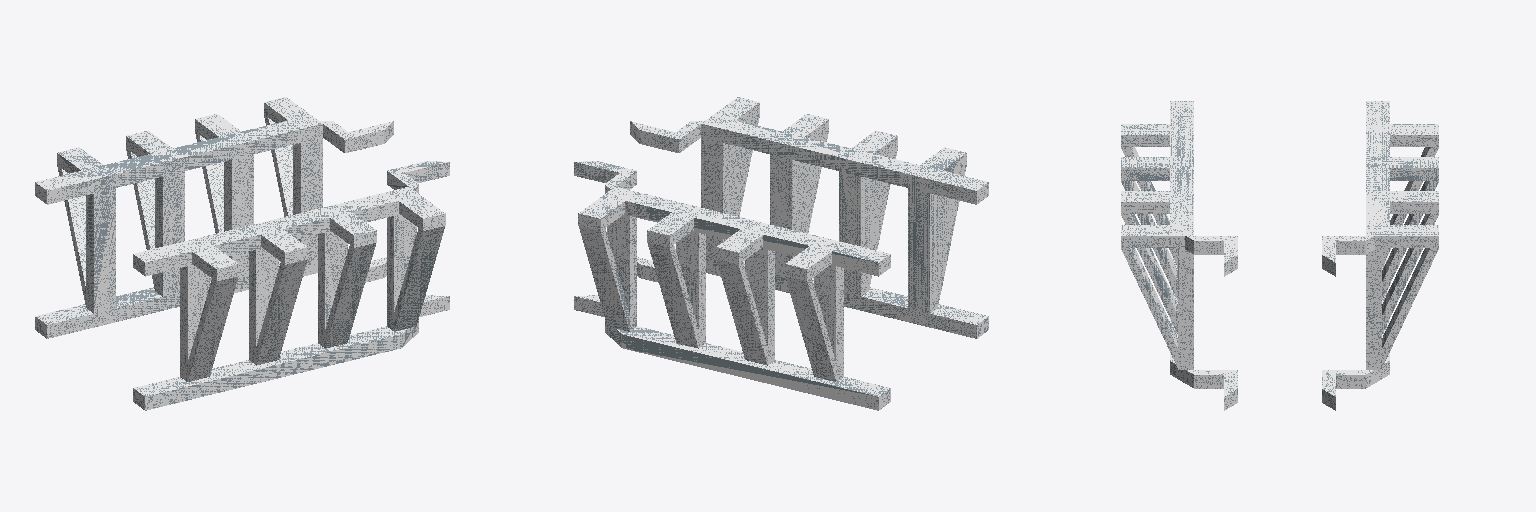
Rendered from arms2.obj.
The picture shows the model from 3 angles: view 1: azimuth 30°, elevation 25°; view 2: azimuth 150°, elevation 25°; view 3: azimuth 270°, elevation 25°; orthographic projection.
Parts seen in each view (by area): view 1: arms; view 2: arms; view 3: arms.
Boxes of the visible parts, x1=… form: arms: x1=35, y1=97, x2=449, y2=410; arms: x1=574, y1=97, x2=988, y2=410; arms: x1=1121, y1=101, x2=1438, y2=410.
Size of the model in its own units: 5.16 by 2.2 by 4.3.